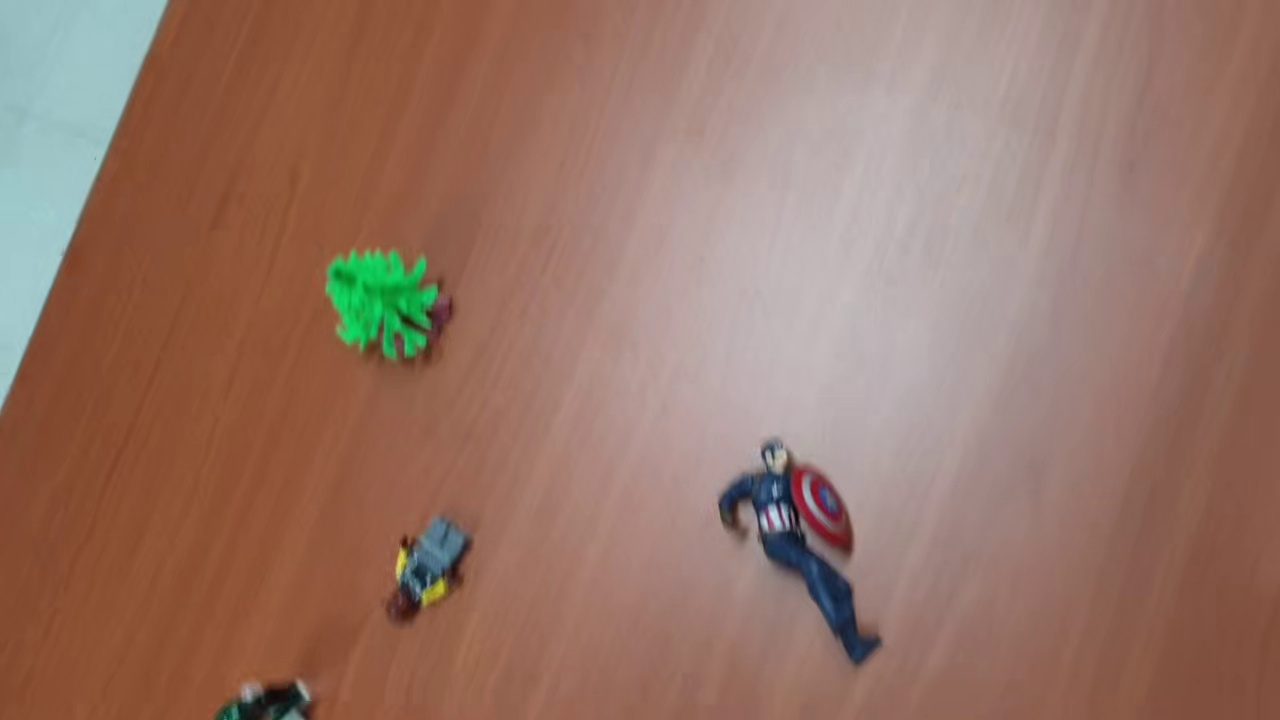people: (718, 437, 892, 672), (380, 513, 477, 629), (211, 673, 316, 720)
tree: (324, 244, 457, 370)
